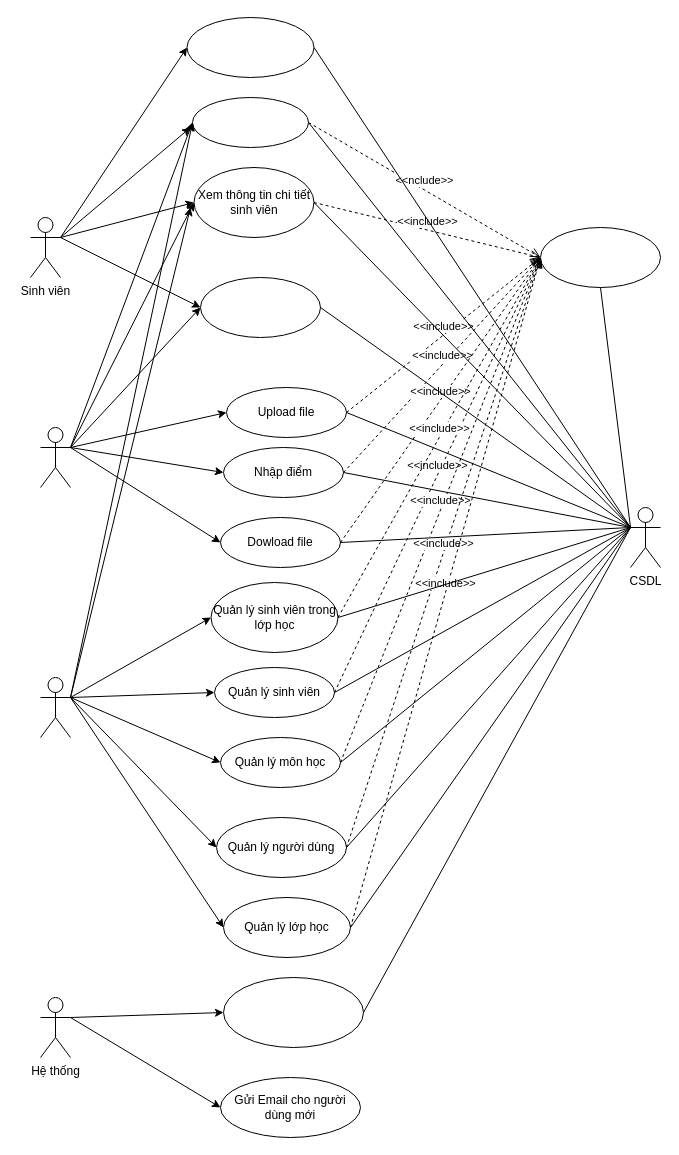
Image size: 679x1155. Some labels were removed from this diagram. Each missing label, with the centre of its shape:
"Giáo viên" belongs at point 55,457.
"Người quản trị" belongs at point 55,707.
"Xem thông tin lớp học" belongs at point 260,307.
"Xem thống kê điểm tích lũy" belongs at point 250,122.
"Đăng ký" belongs at point 250,47.
"Đăng nhập" belongs at point 600,257.
"Đọc ghi dữ liệu trong file vào CSDL" belongs at point 293,1012.
